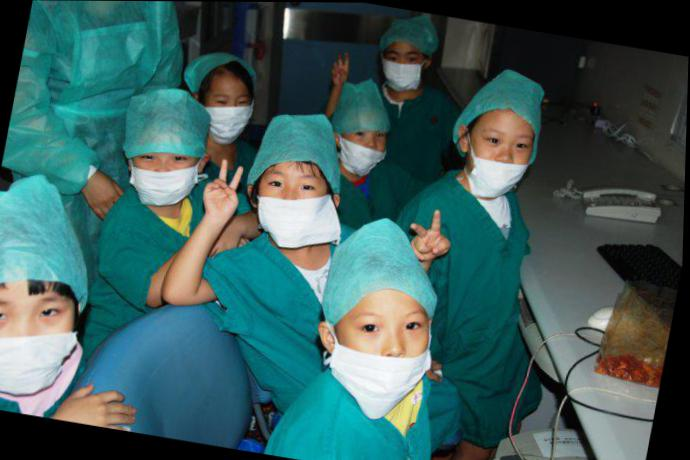OK: (1, 281, 91, 405), (203, 82, 266, 143), (382, 47, 429, 93)
WRONG: (328, 290, 446, 407), (251, 163, 334, 245), (462, 120, 539, 196), (124, 142, 201, 207), (332, 115, 394, 176)
